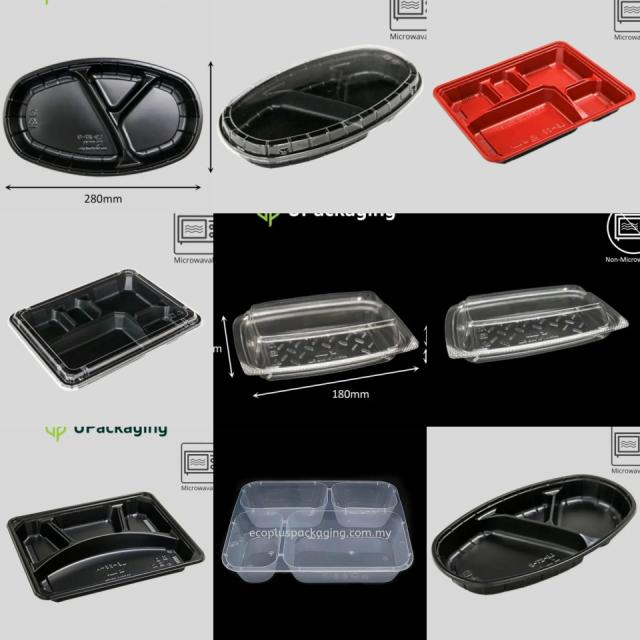Single-Use-Plastic: (431, 475, 636, 594), (434, 41, 634, 162), (221, 49, 421, 167), (4, 59, 201, 175), (10, 270, 200, 389), (8, 492, 204, 601), (222, 481, 412, 582), (232, 291, 419, 380), (445, 285, 629, 362)
